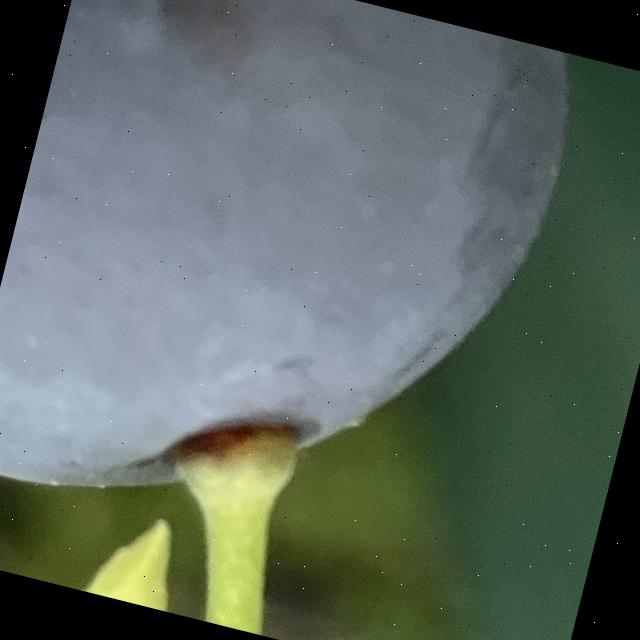Blueberries: (0, 0, 592, 595)
